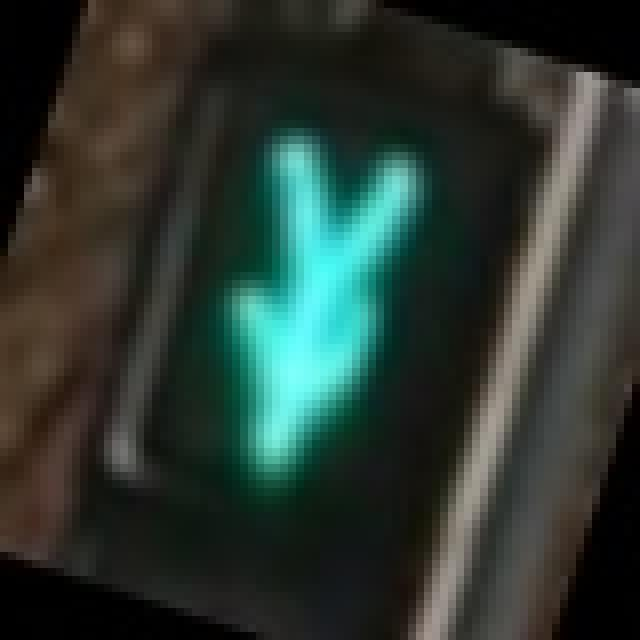geen-crossing: (96, 48, 520, 560)
